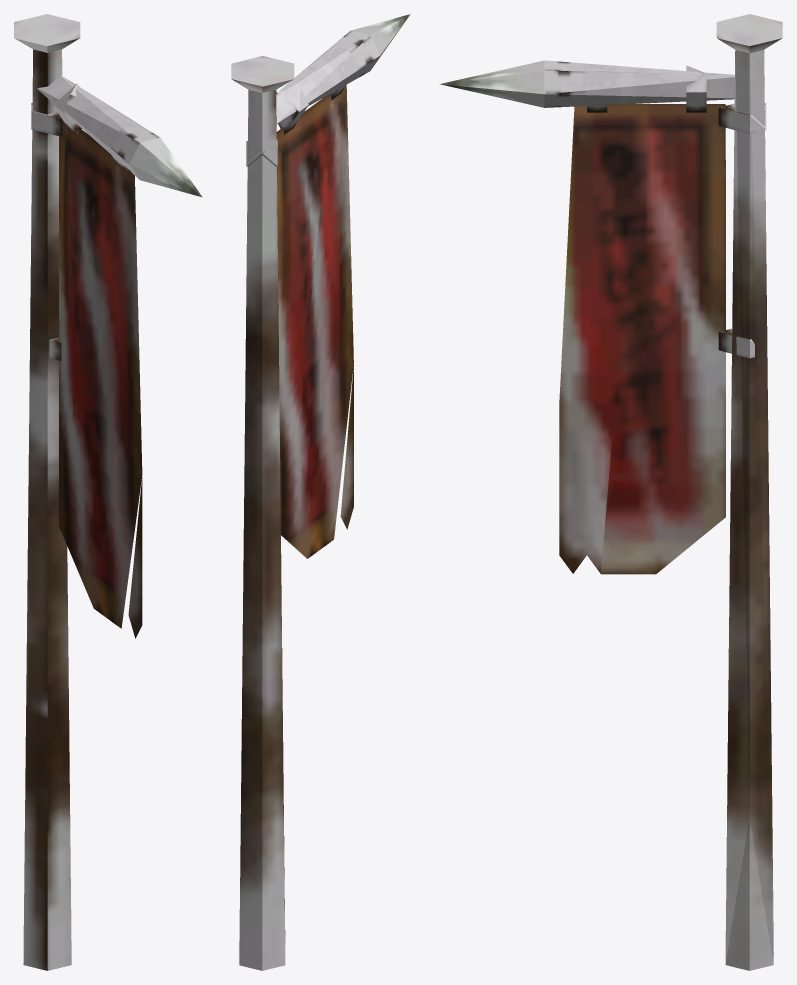
File: general_obj_flag_lod_01.glb
The picture shows the model from 3 angles, left to right: view 1: azimuth 30°, elevation 25°; view 2: azimuth 150°, elevation 25°; view 3: azimuth 270°, elevation 25°; orthographic projection. The views are drawn at different scales.
Parts seen in each view (by area): view 1: Object03; view 2: Object03; view 3: Object03.
Part boxes in pixels (x1,y1,x2,y2): Object03: [14, 14, 202, 970]; Object03: [231, 14, 410, 970]; Object03: [439, 14, 782, 970].
Bounding box in the file's own units: 0.27 × 3.63 × 1.22.
1 material, 1 textured.
